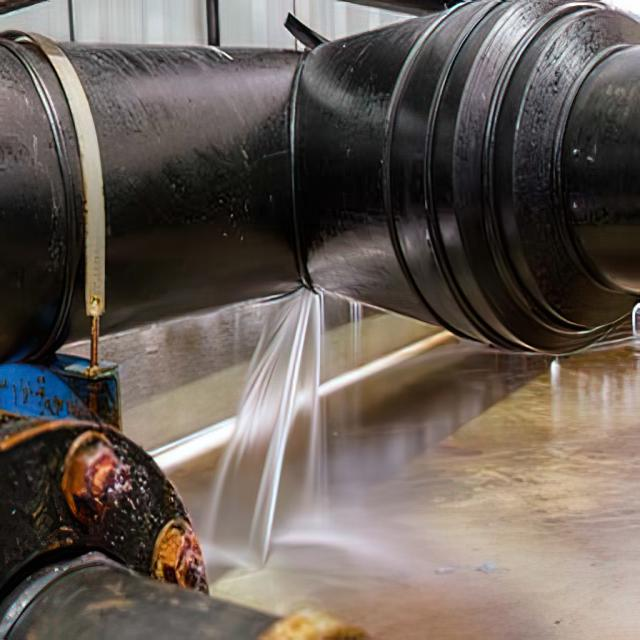leak: (206, 287, 322, 566)
